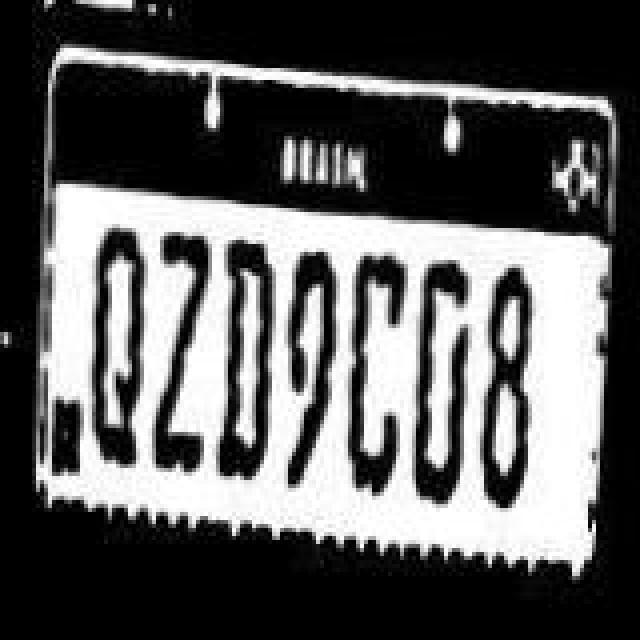8: (478, 264, 534, 516)
9: (280, 240, 340, 504)
C: (340, 228, 408, 500)
D: (210, 228, 274, 488), (414, 254, 470, 502)
Q: (84, 212, 144, 472)
Z: (146, 218, 210, 482)
